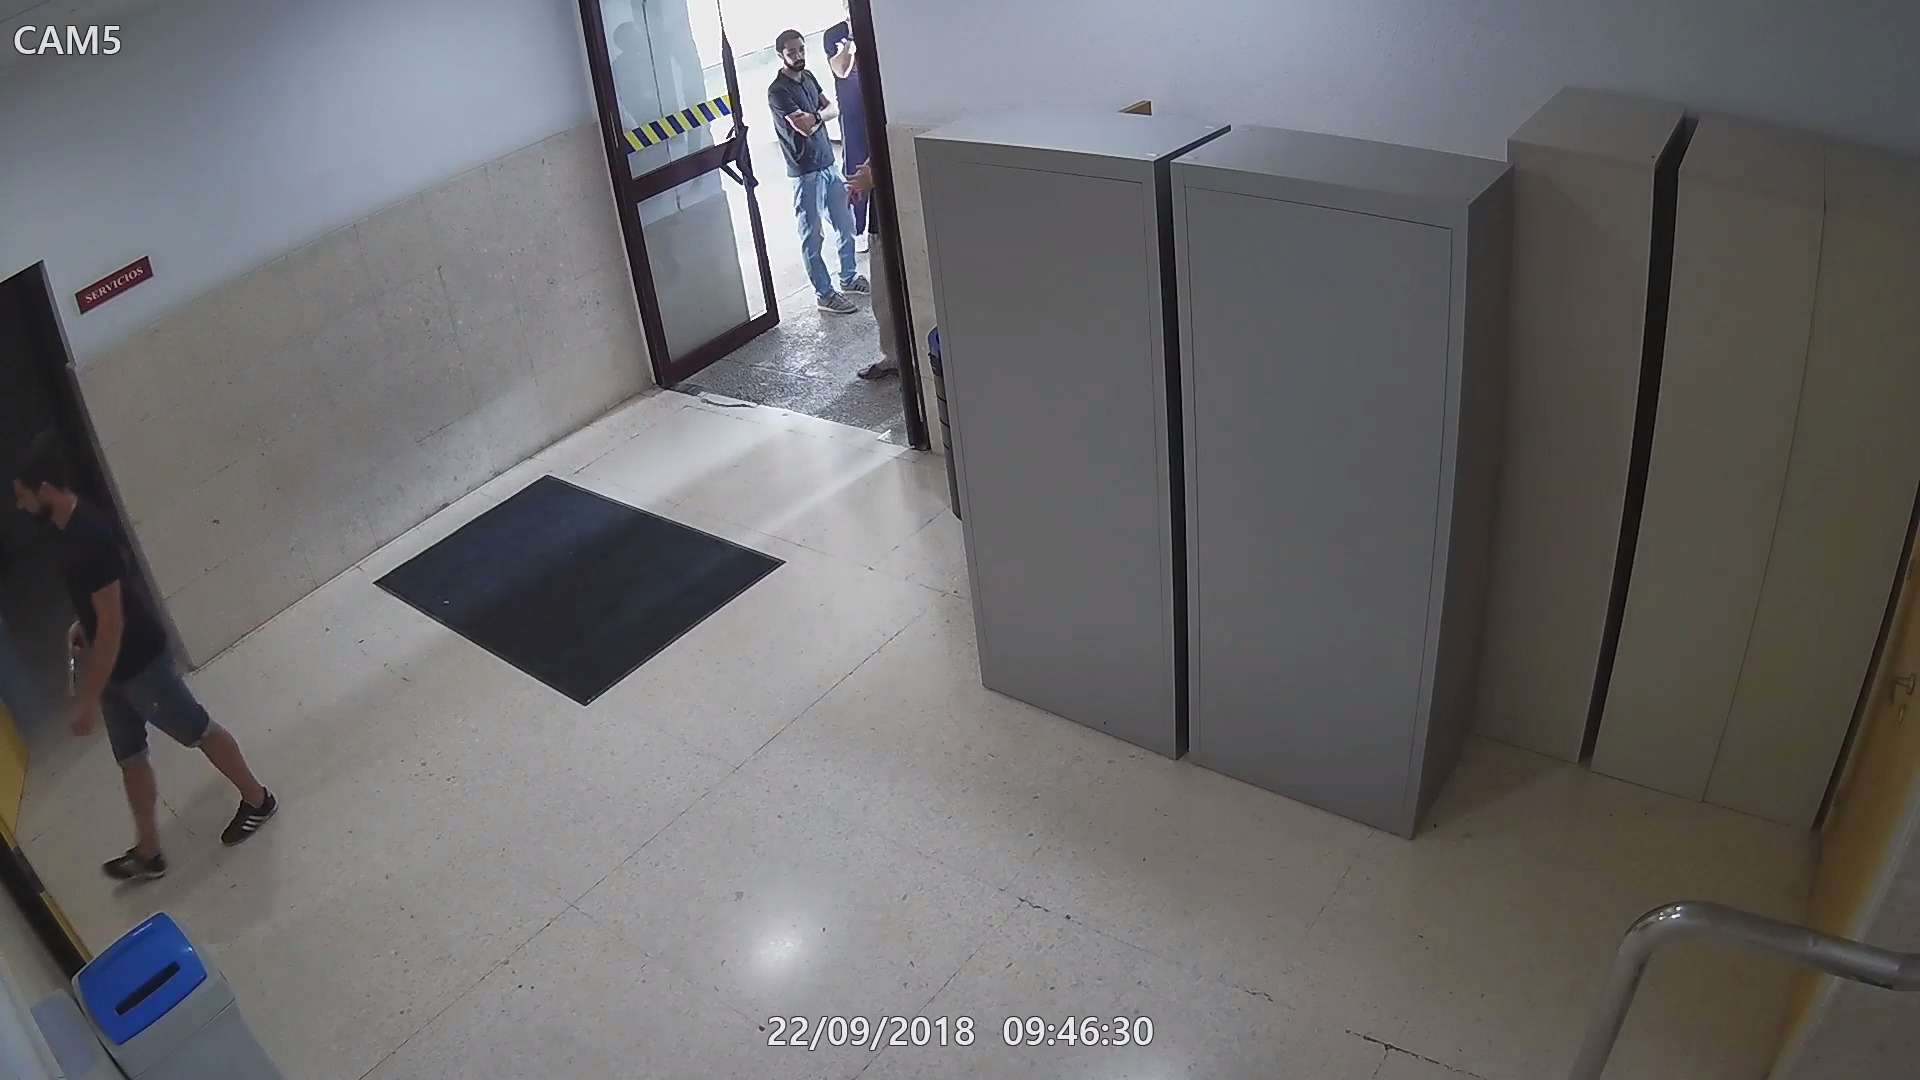Handgun: (63, 621, 92, 702)
